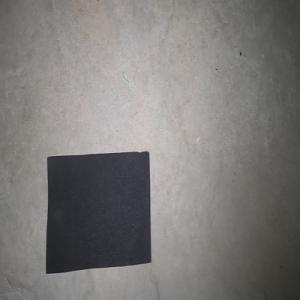PaintChip: (45, 151, 151, 274)
